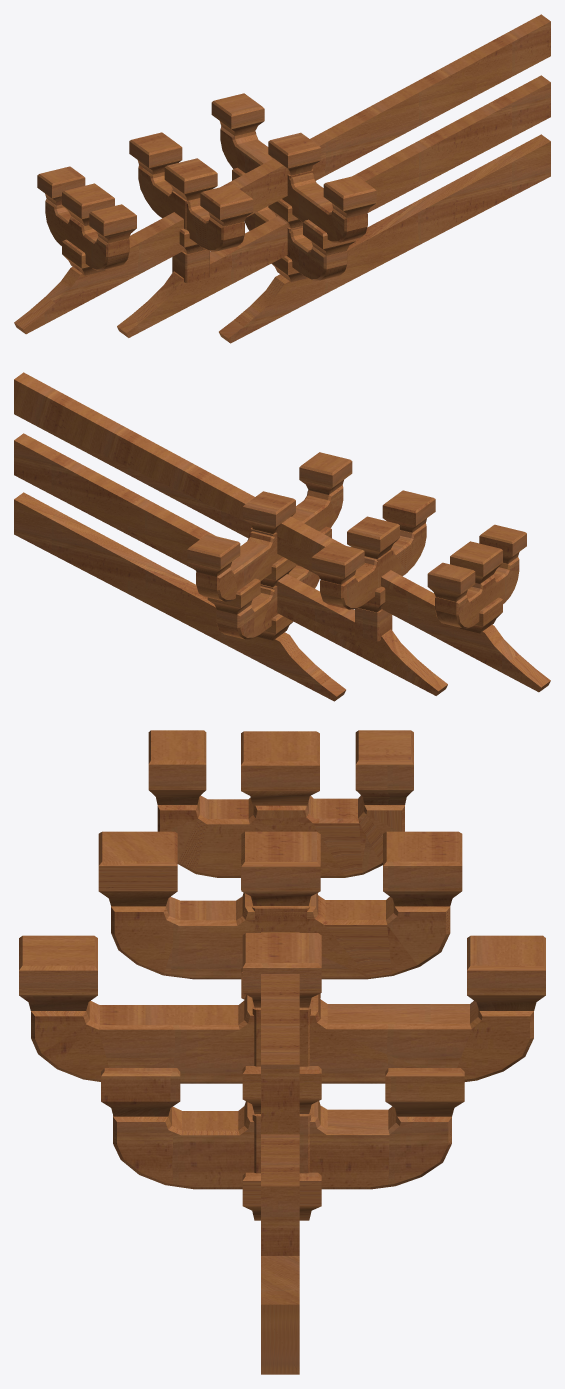
The picture shows the model from 3 angles, top to bottom: view 1: azimuth 30°, elevation 25°; view 2: azimuth 150°, elevation 25°; view 3: azimuth 270°, elevation 25°; orthographic projection. The views are drawn at different scales.
Parts seen in each view (by area): view 1: R3L3; view 2: R3L3; view 3: R3L3.
Part boxes in pixels (x1,y1,x2,y2): R3L3: (14, 14, 550, 343); R3L3: (14, 372, 550, 701); R3L3: (19, 730, 545, 1374).
Bounding box in the file's own units: 58.78 × 25.99 × 25.44.
1 material, 1 textured.
